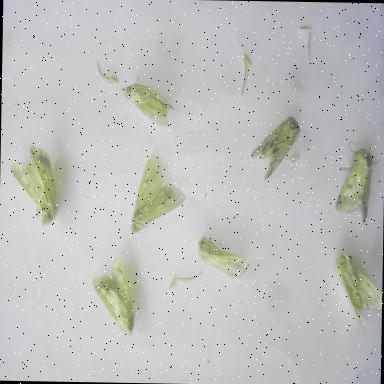abw: (128, 150, 190, 238), (8, 143, 60, 229), (332, 139, 384, 224), (333, 248, 383, 332), (89, 255, 138, 340), (248, 113, 302, 182), (116, 79, 178, 130), (195, 232, 254, 282)
